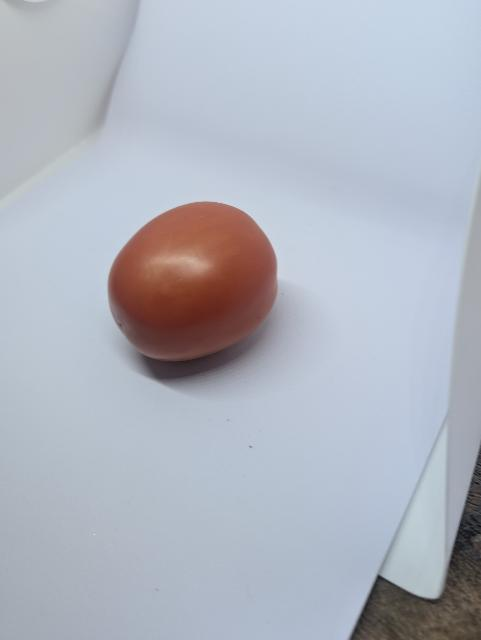red: (92, 189, 300, 375)
